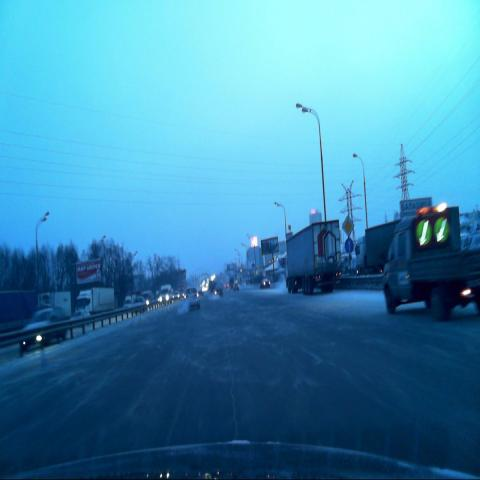2_1: (342, 216, 354, 237)
4_1_1: (344, 238, 354, 254)
